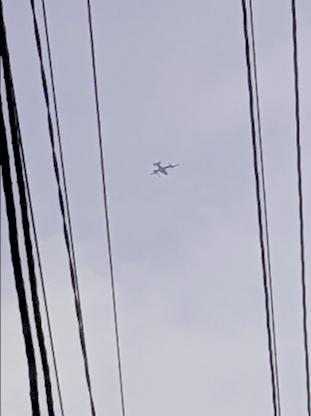Tornado: (151, 159, 180, 177)
